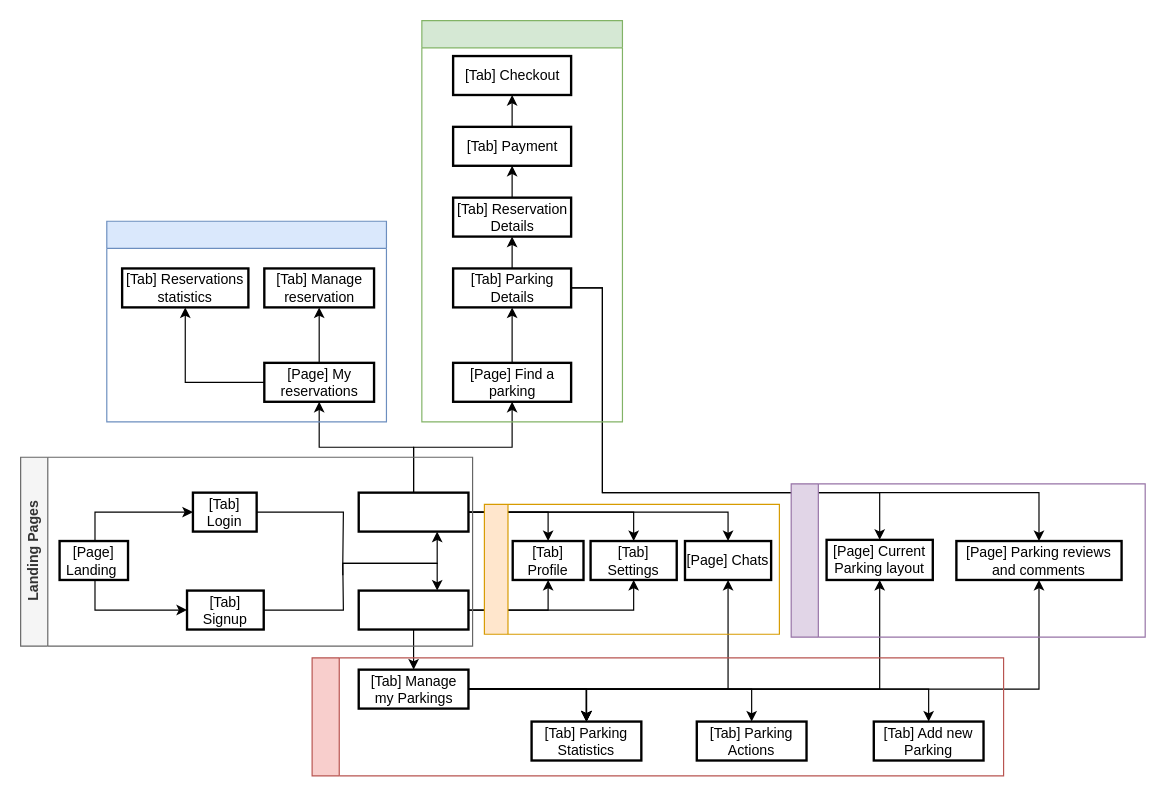
Image size: 1166x796. Some labels were removed from this diagram. Here are the shapes that lost their labels. From the top down, the centre of each, then its label:
At point 521,220: "Client Reservation Process".
At point 246,321: "Client Reservations".
At point 413,511: "[Page] Client Home".
At point 631,568: "Common Features".
At point 967,560: "Parking Features".
At point 413,609: "[Page] Tenant Home".
At point 657,716: "Tenant Features".
